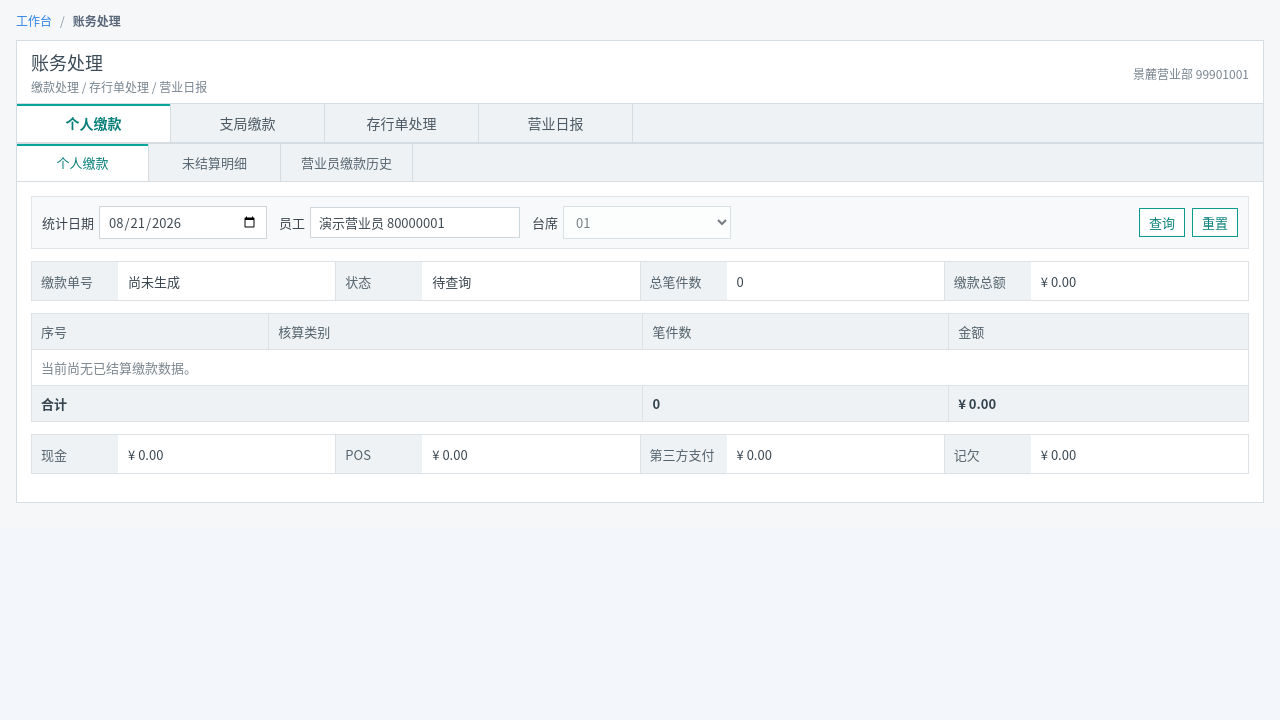
it: AccountingWorkspace › keeps institution accounting visible while disabling manager-only actions
The width and height of the screenshot is (1280, 720).
Click the button "支局缴款". click: (248, 123)
box: [171,104,325,142]
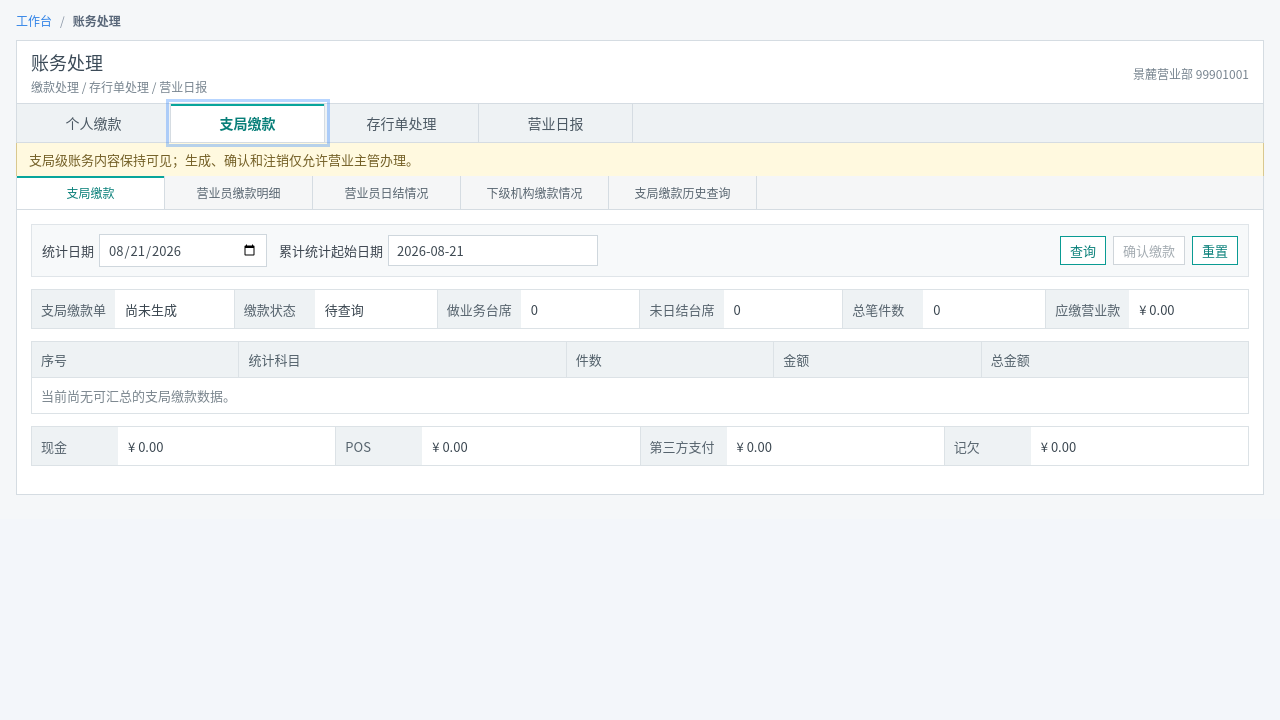
Result: the text "支局级账务内容保持可见；生成、确认和注销仅允许营业主管办理。" is shown at [16,143,1264,176]
Result: the button "确认缴款" is disabled at [1113,236,1185,265]
Click the button "存行单处理". click: (402, 123)
box: [325,104,479,142]
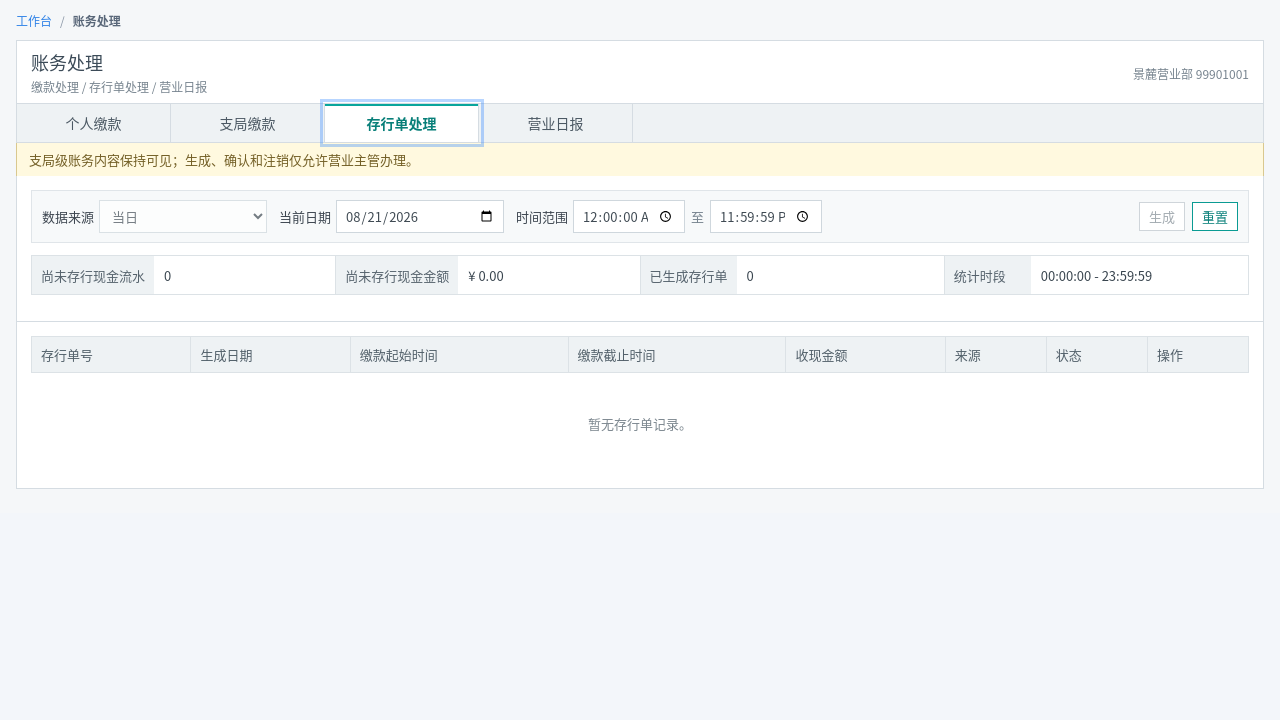
Result: the button "生成" is disabled at [1139,202,1185,231]
Click the button "营业日报". click: (556, 123)
box: [479,104,633,142]
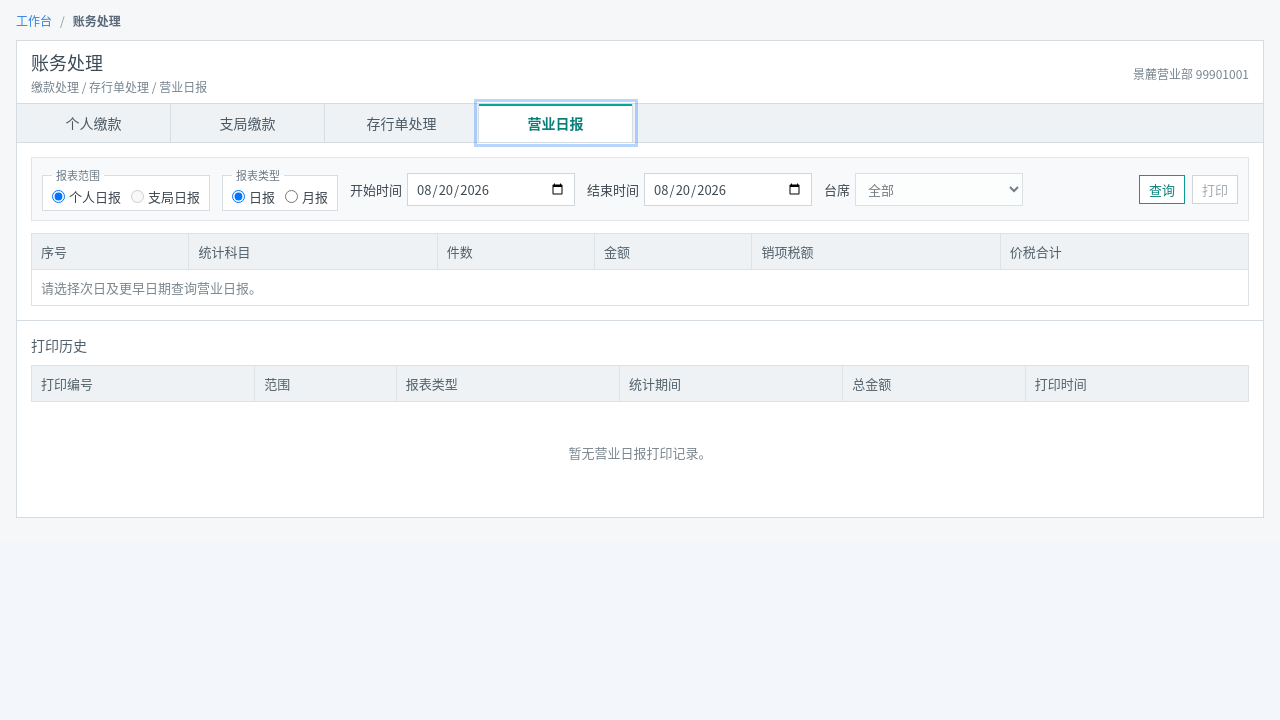
Result: the radio button labelled "支局日报" is disabled at [131,190,144,203]
